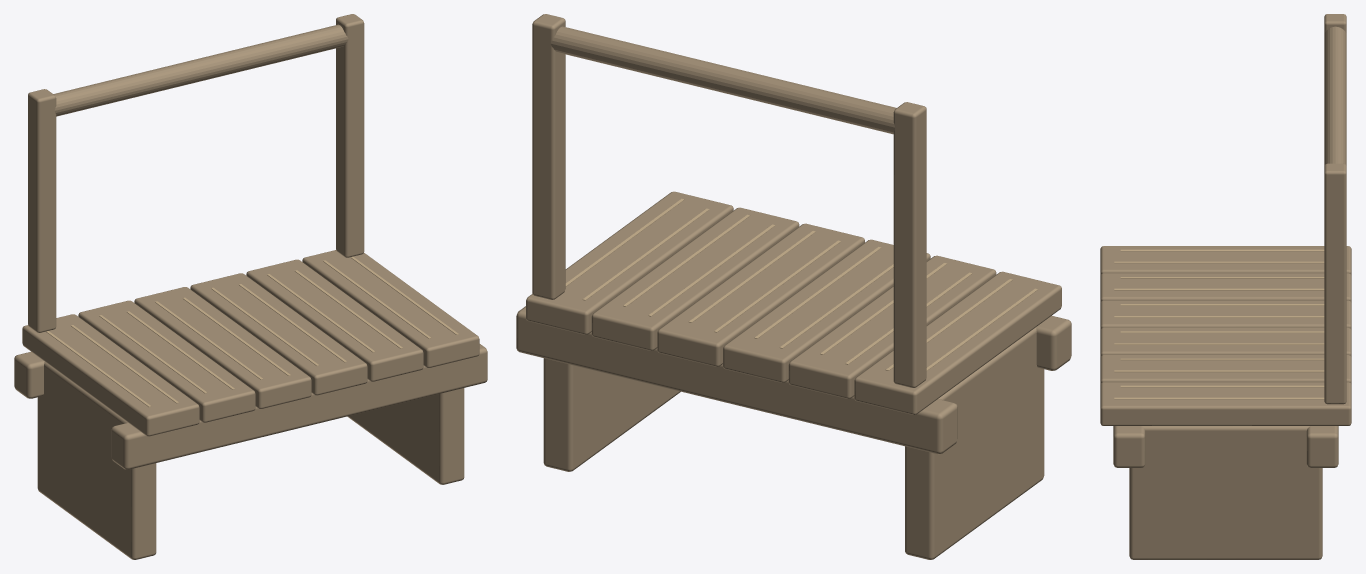
Rendered from coastal-saltworks-and-trade-port-coastal-saltworks-and-430d505f__31372.glb.
3 views of the same model, side by side, from view 1: azimuth 30°, elevation 25°; view 2: azimuth 150°, elevation 25°; view 3: azimuth 270°, elevation 25° (orthographic). The views are drawn at different scales.
Visible parts, largest first — view 1: coastal-saltworks-and-trade-port-channel-footbridge; view 2: coastal-saltworks-and-trade-port-channel-footbridge; view 3: coastal-saltworks-and-trade-port-channel-footbridge.
Part boxes in pixels (x1,y1,x2,y2): coastal-saltworks-and-trade-port-channel-footbridge: (14, 14, 487, 559); coastal-saltworks-and-trade-port-channel-footbridge: (516, 14, 1071, 559); coastal-saltworks-and-trade-port-channel-footbridge: (1100, 14, 1351, 559).
Bounding box in the file's own units: 1.3 × 1.33 × 0.7801.
